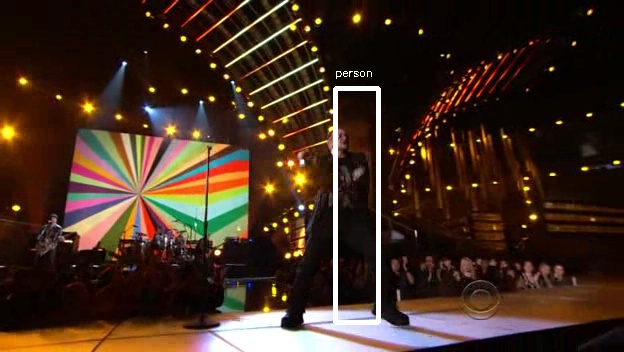person: (308, 127, 374, 246), (305, 127, 371, 246), (311, 127, 377, 246), (308, 124, 374, 243), (308, 130, 374, 249)
target_negative: (243, 4, 531, 304), (12, 44, 566, 195), (136, 180, 407, 322), (364, 36, 427, 328), (42, 237, 269, 254), (186, 338, 607, 343)
